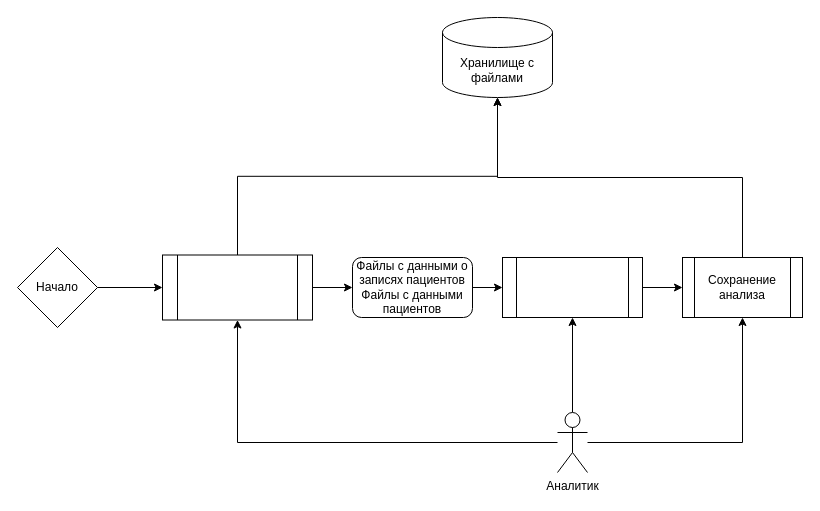
Image size: 820x511. Some labels were removed from this diagram. The box of each missing label's shape, as (x1, y1, x2, y2) in pixels:
Анализ данных: (502, 256, 642, 318)
Поиск данных для анализа: (162, 254, 312, 320)
